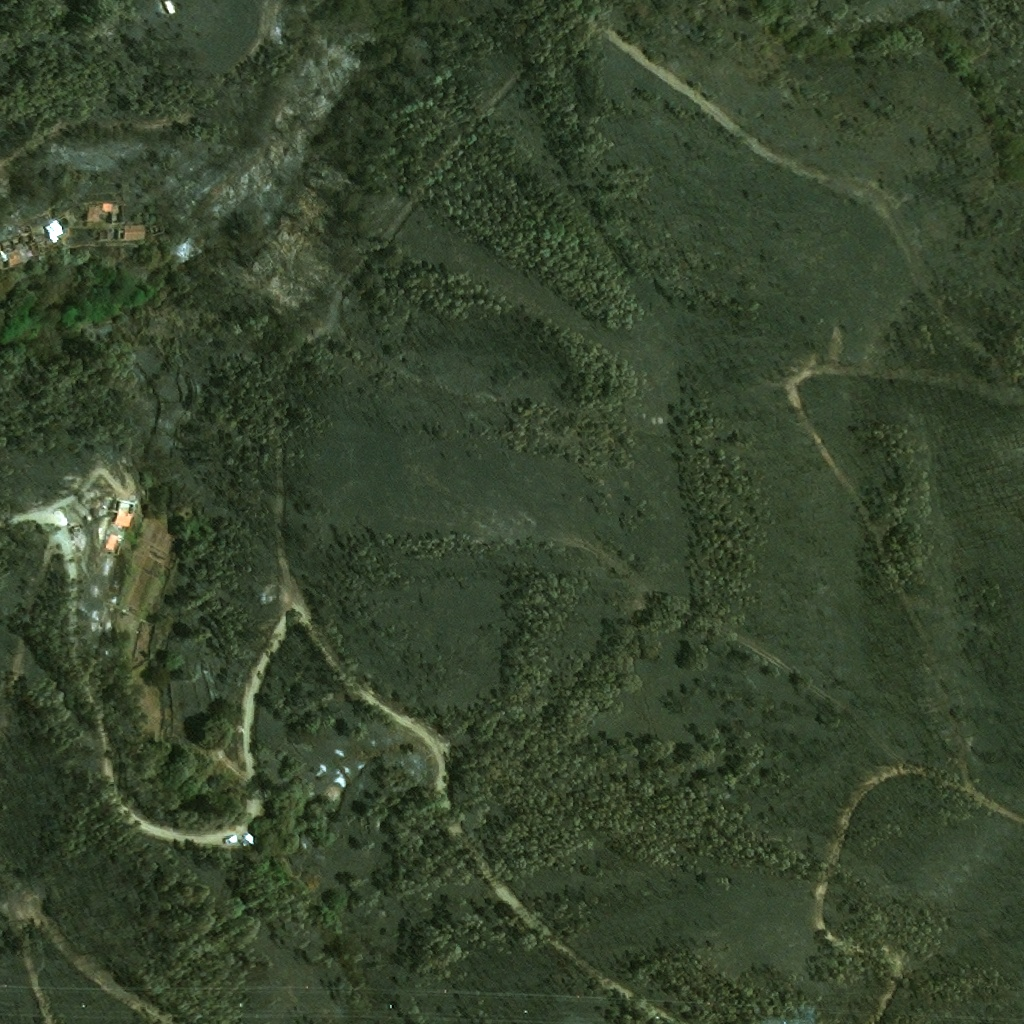0 no-damage: (68, 227, 90, 249), (123, 224, 145, 242), (102, 534, 116, 555), (87, 205, 100, 223)
2 major-damage: (0, 233, 35, 267), (111, 502, 129, 527)
3 destroyed: (80, 492, 113, 518), (66, 516, 86, 549), (95, 519, 106, 533), (218, 750, 227, 761)
